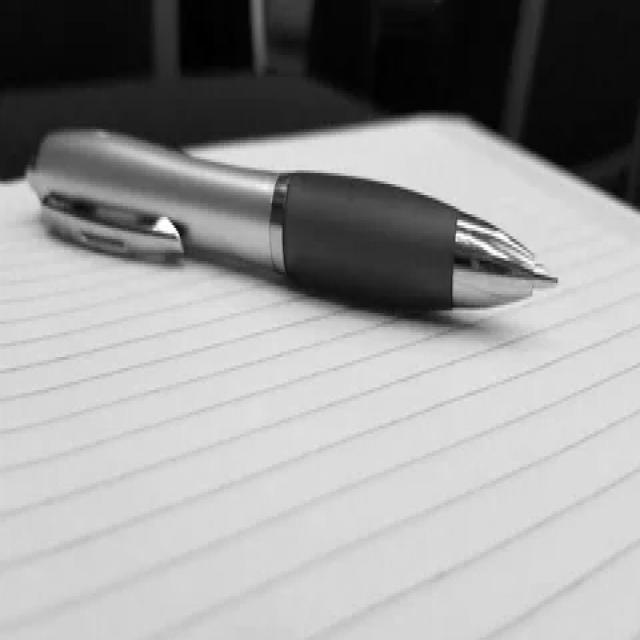pencil: (26, 103, 573, 351)
